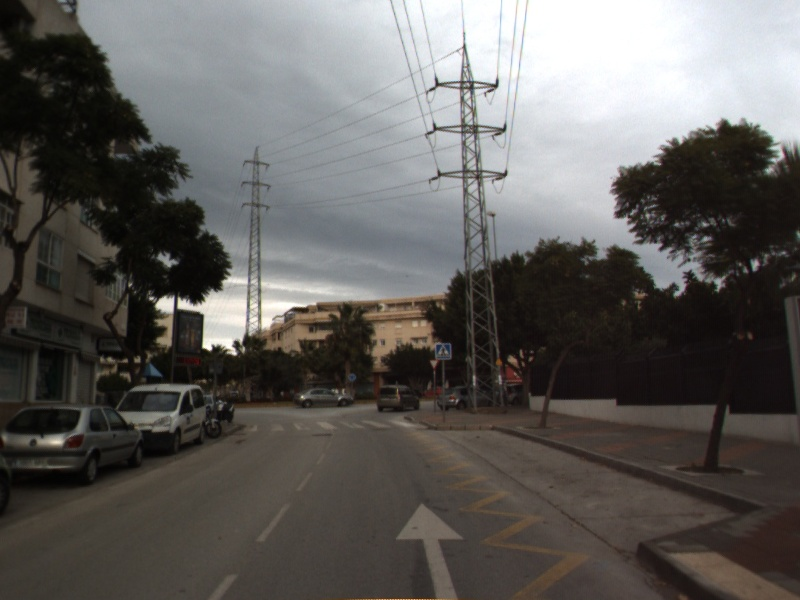STRAIGHT: (391, 499, 468, 600)
